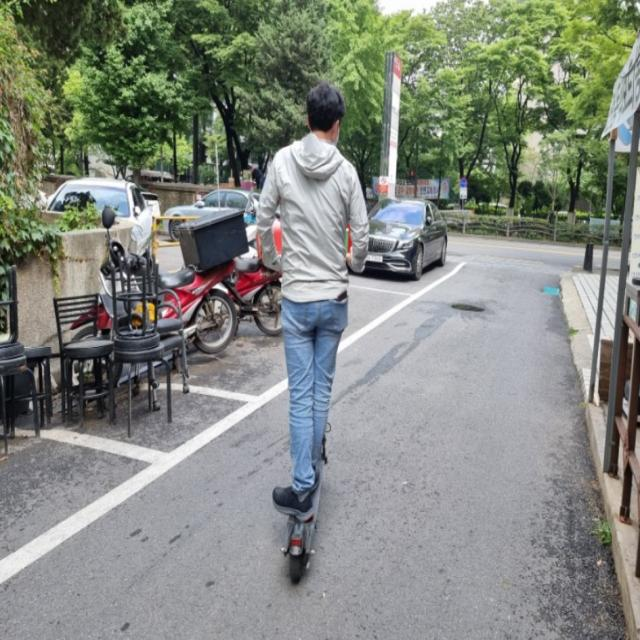non-helmet: (200, 54, 406, 619)
